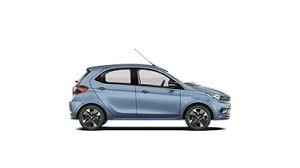Tiago: (68, 62, 232, 133)
